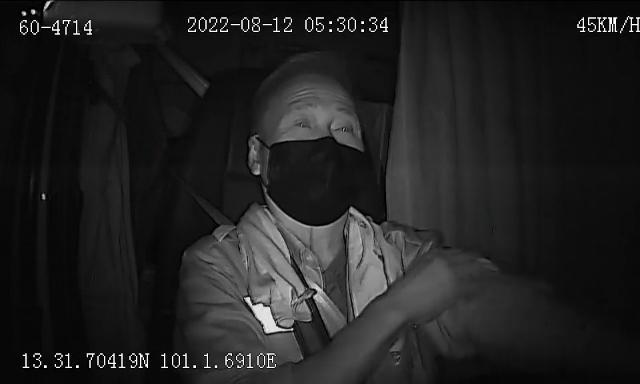SafeDriving: (328, 114, 358, 138)
Seatbelt: (195, 192, 229, 226)
